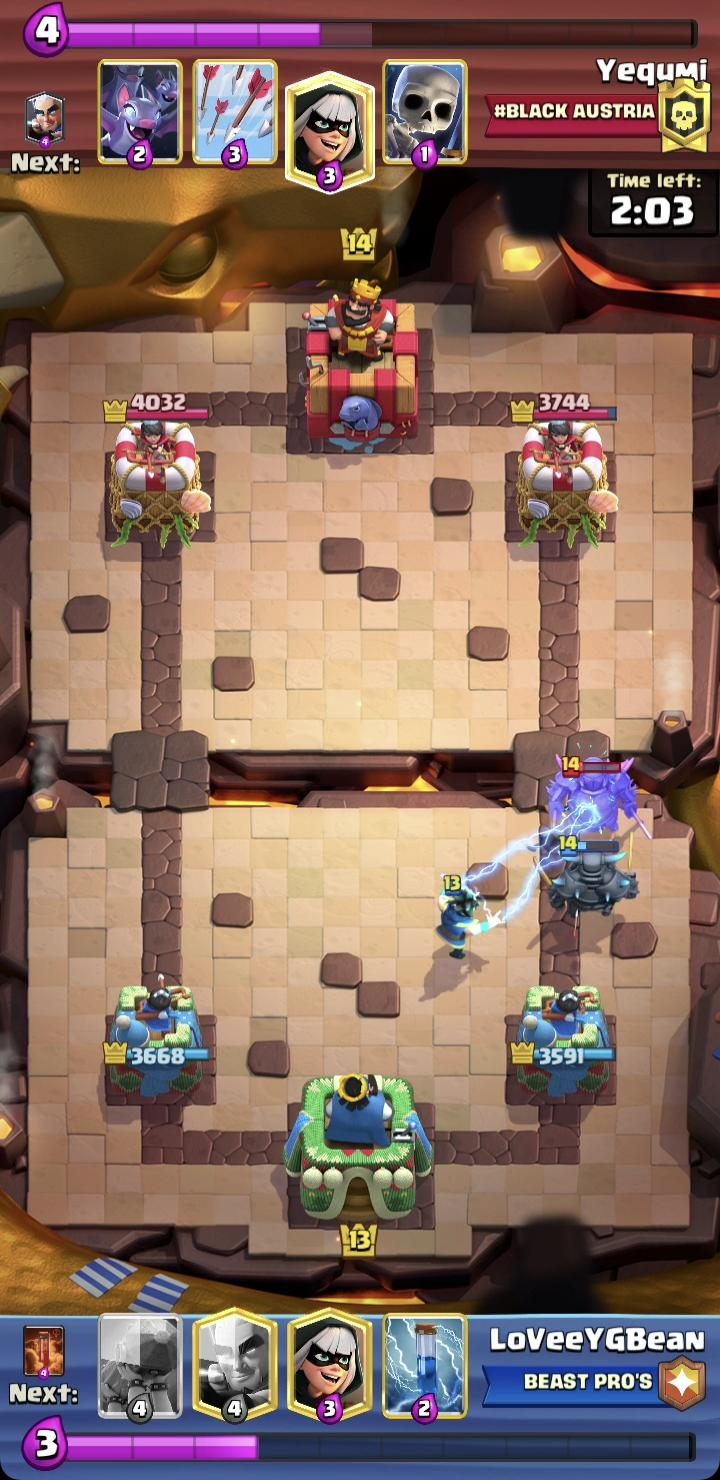ally_electro_wizard: (434, 874, 504, 959)
ally_pekka: (538, 834, 640, 917)
enemy_pekka: (549, 754, 638, 832)
